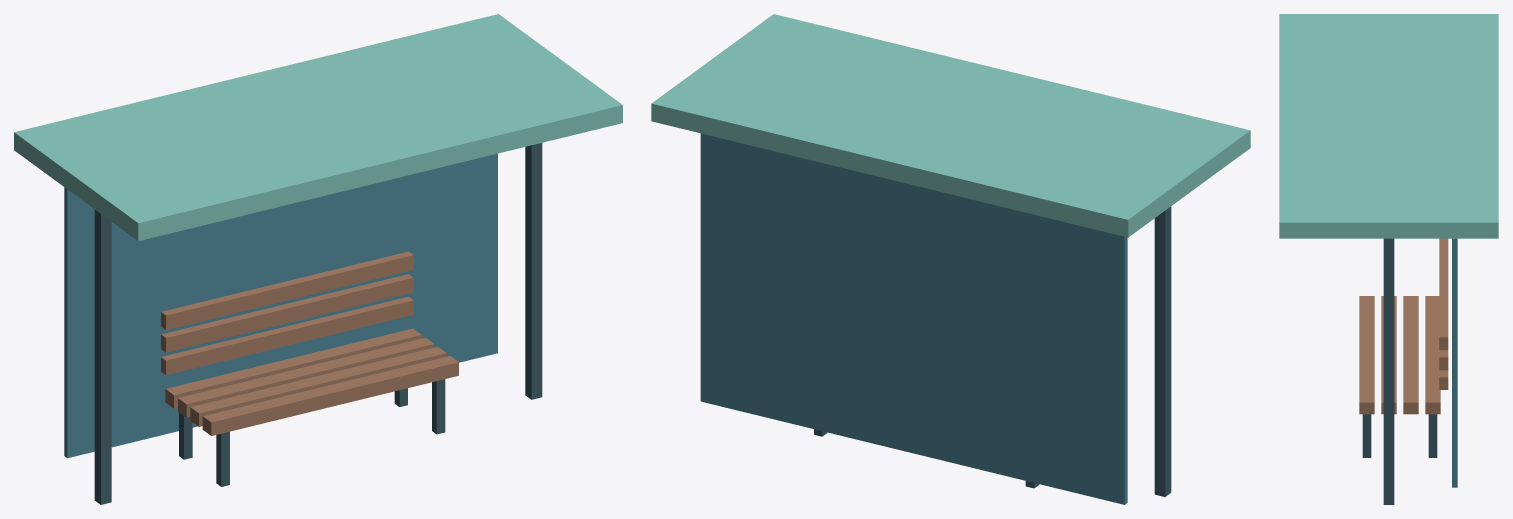
Rendered from busShelter.obj.
3 views of the same model, side by side, from view 1: azimuth 30°, elevation 25°; view 2: azimuth 150°, elevation 25°; view 3: azimuth 270°, elevation 25° (orthographic). The views are drawn at different scales.
Parts seen in each view (by area): view 1: busShelter; view 2: busShelter; view 3: busShelter.
Boxes of the visible parts, x1,y1,x2,y2 form: busShelter: (14, 14, 622, 504); busShelter: (651, 14, 1250, 504); busShelter: (1279, 14, 1498, 504).
Bounding box in the file's own units: 4.5 × 2.93 × 2.
